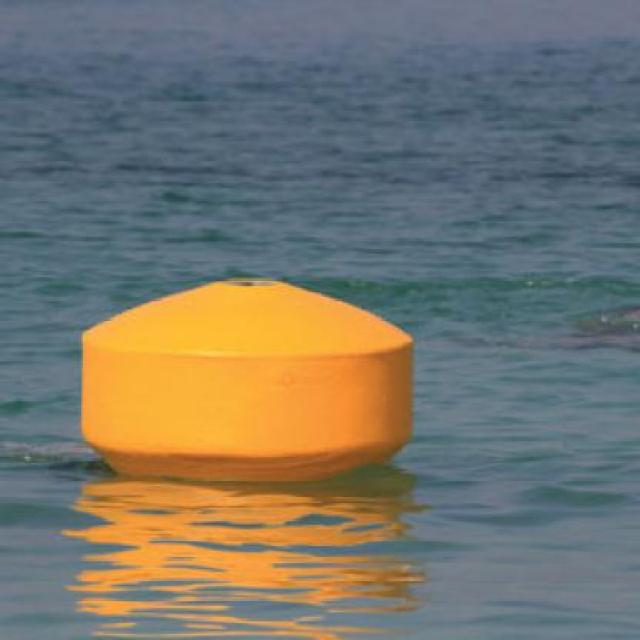a: (63, 259, 428, 488)
